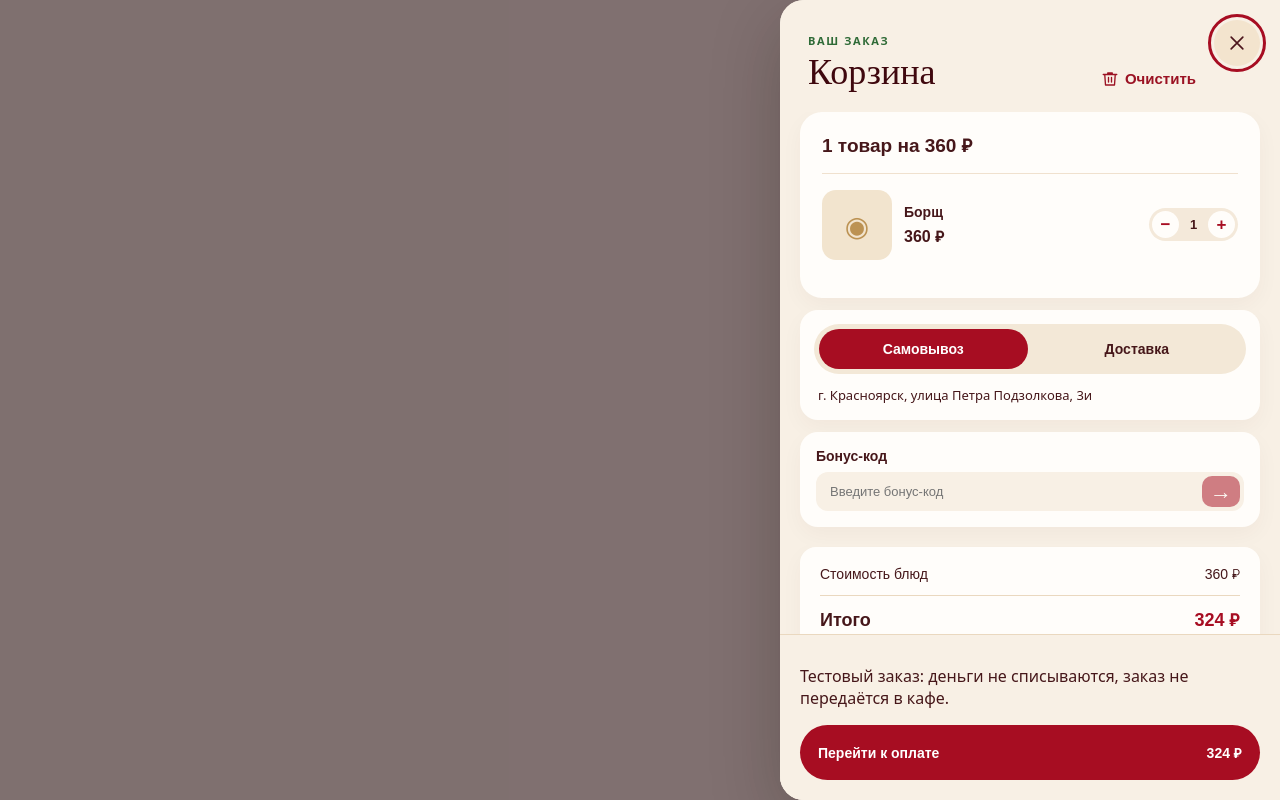
Test: не переводит на оплату, если корзина изменилась во время сохранения заказа
The width and height of the screenshot is (1280, 800).
What coordinates should you click on to do the following:
click the button "Перейти к оплате 324 ₽"
I would click on:
 (879, 752)
Its box is [800, 725, 1260, 780].
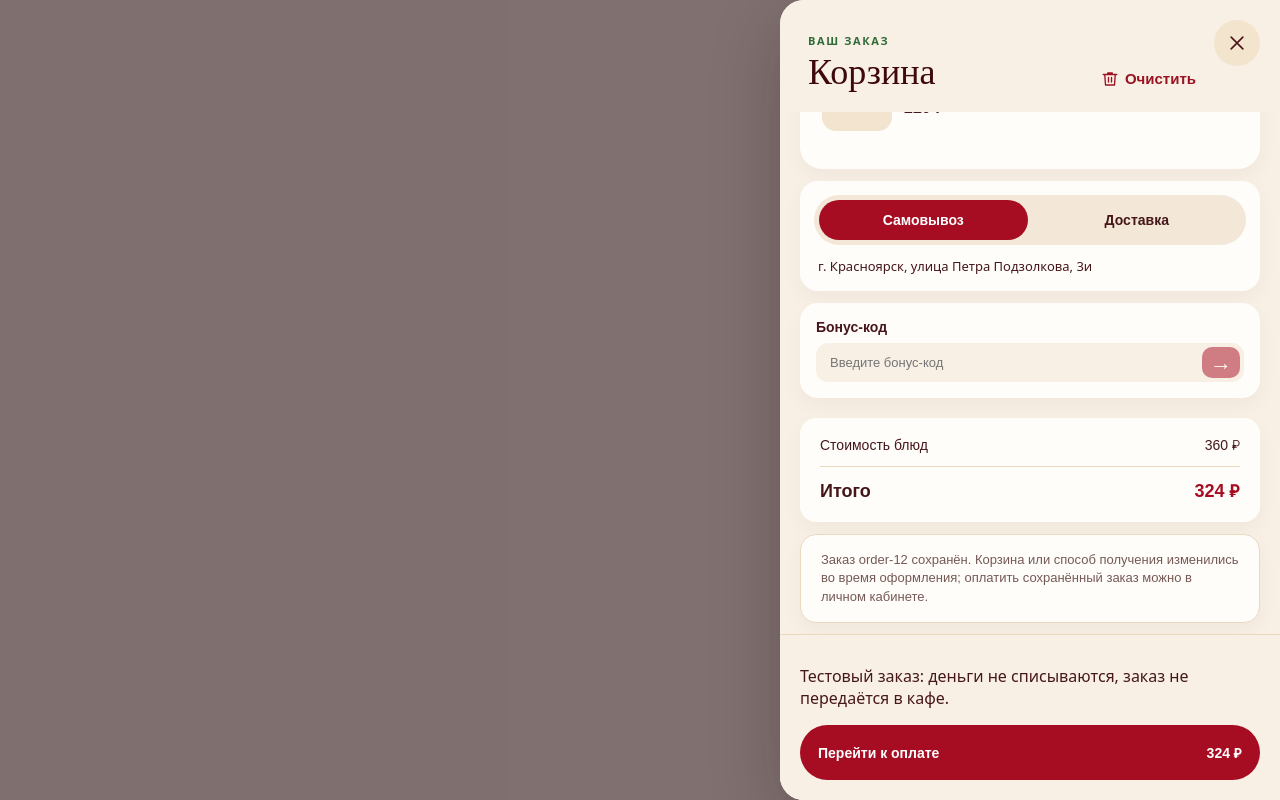
Now the text "оплатить сохранённый заказ можно в личном кабинете" is shown, box [821, 552, 1239, 604]
